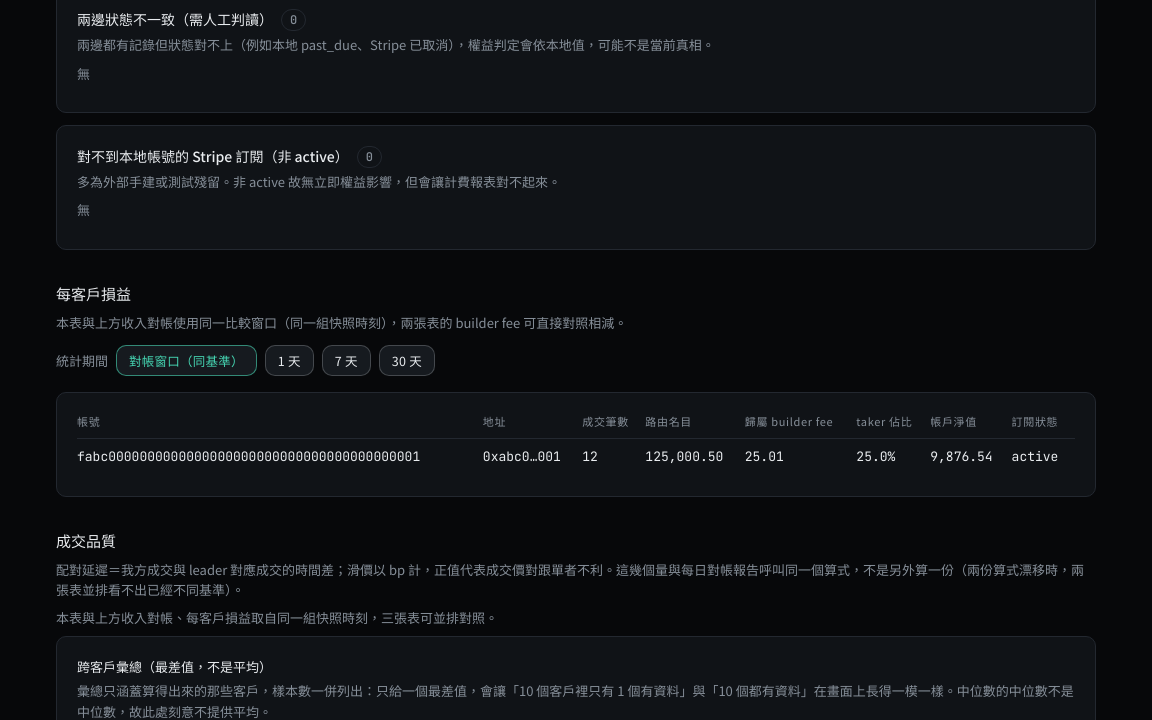
Test case: OpsPage › 成交品質：切到自由檢視窗 → 送 {days} 且改口說不可相減
(page scrolled)
Expected: the text "fabc0000000000000000000000000000000000000001" is shown, [77,439,483,476]
Click the button "7 天" at (346, 361), box [322,345,371,376]
(page scrolled)
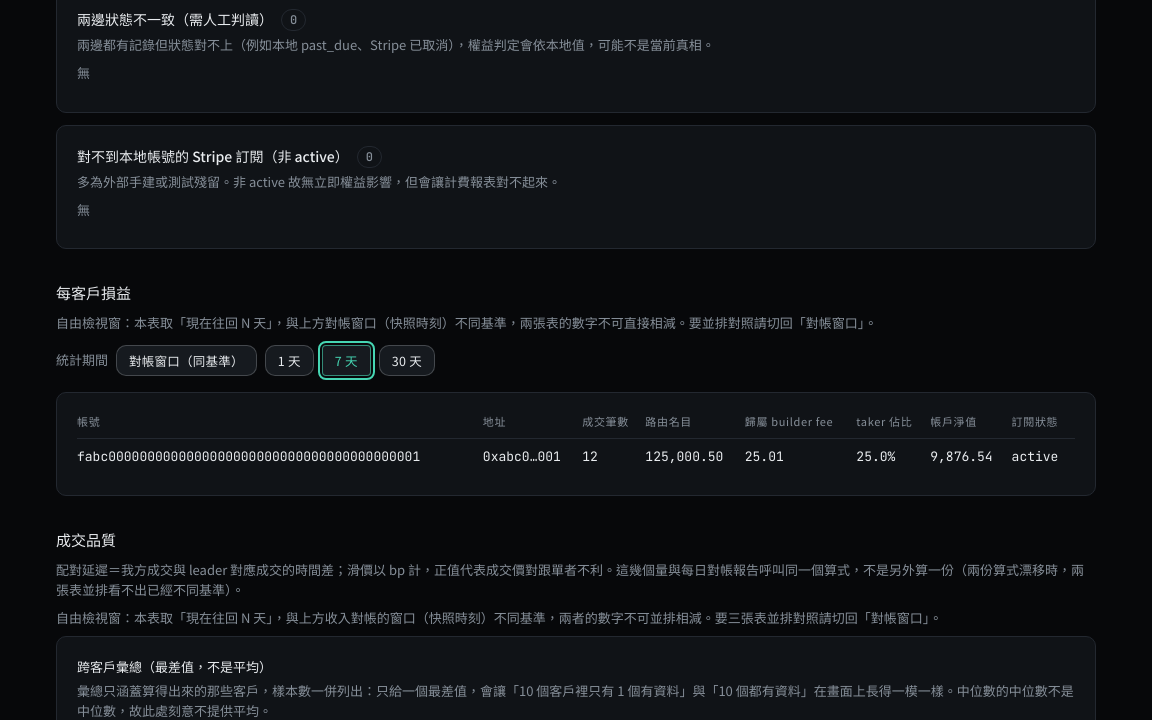
Expected: the text "不可並排相減" is shown, [56,608,942,627]
